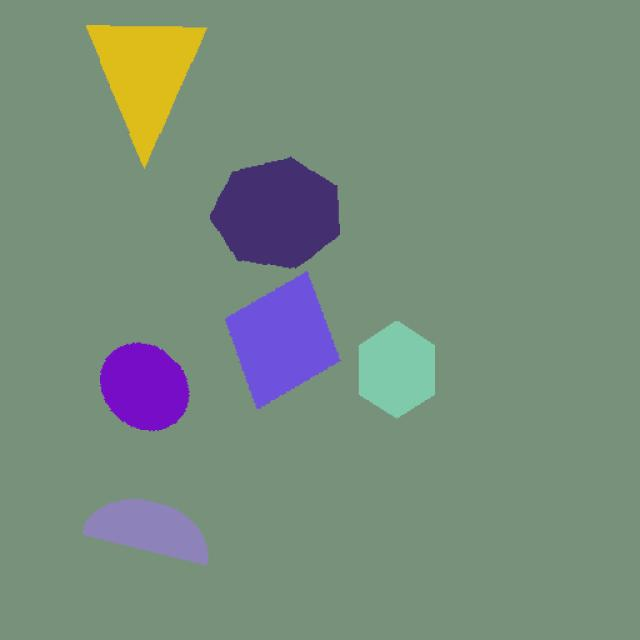Heptagon: (180, 130, 374, 270)
Hexagon: (349, 314, 447, 429)
Oval: (88, 326, 198, 446)
Semicircle: (74, 492, 262, 597)
Triangle: (79, 11, 220, 179)
square: (218, 271, 350, 435)
